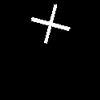single_crochet: (31, 5, 69, 42)
